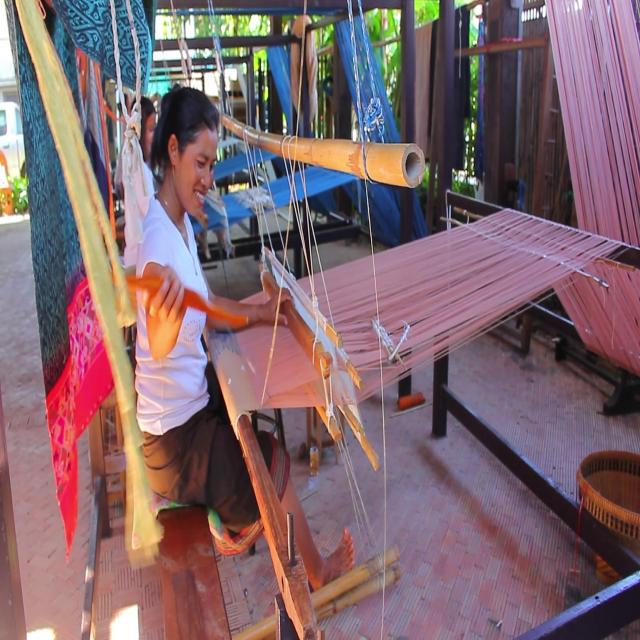not-gloved: (143, 263, 186, 362), (256, 287, 294, 328)
